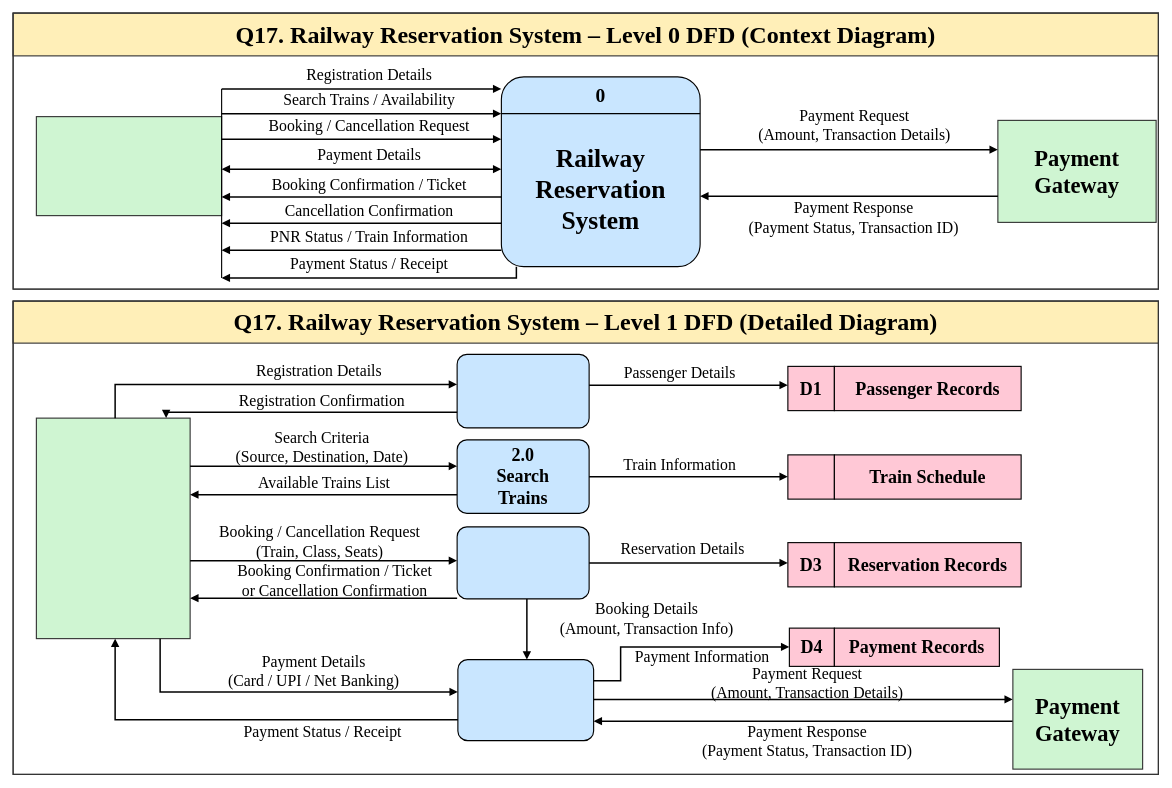
Image size: 1172x788. Some labels were removed from this diagram. The box of each missing label's shape, as (x1, y1, x2, y2) in pixels:
1.0 Register Passenger: (456, 353, 589, 428)
3.0 Book / Cancel Ticket: (456, 526, 589, 599)
4.0 Process Payment: (457, 659, 594, 741)
D2: (787, 454, 835, 499)
Passenger: (35, 116, 222, 216)
Student: (35, 417, 190, 639)
